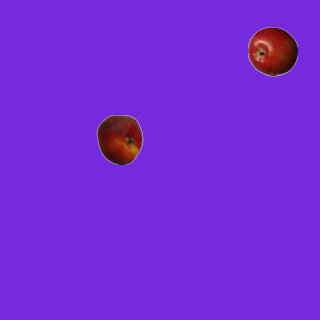Apple Braeburn: (247, 26, 297, 76)
Nectarine Flat: (94, 114, 144, 164)
